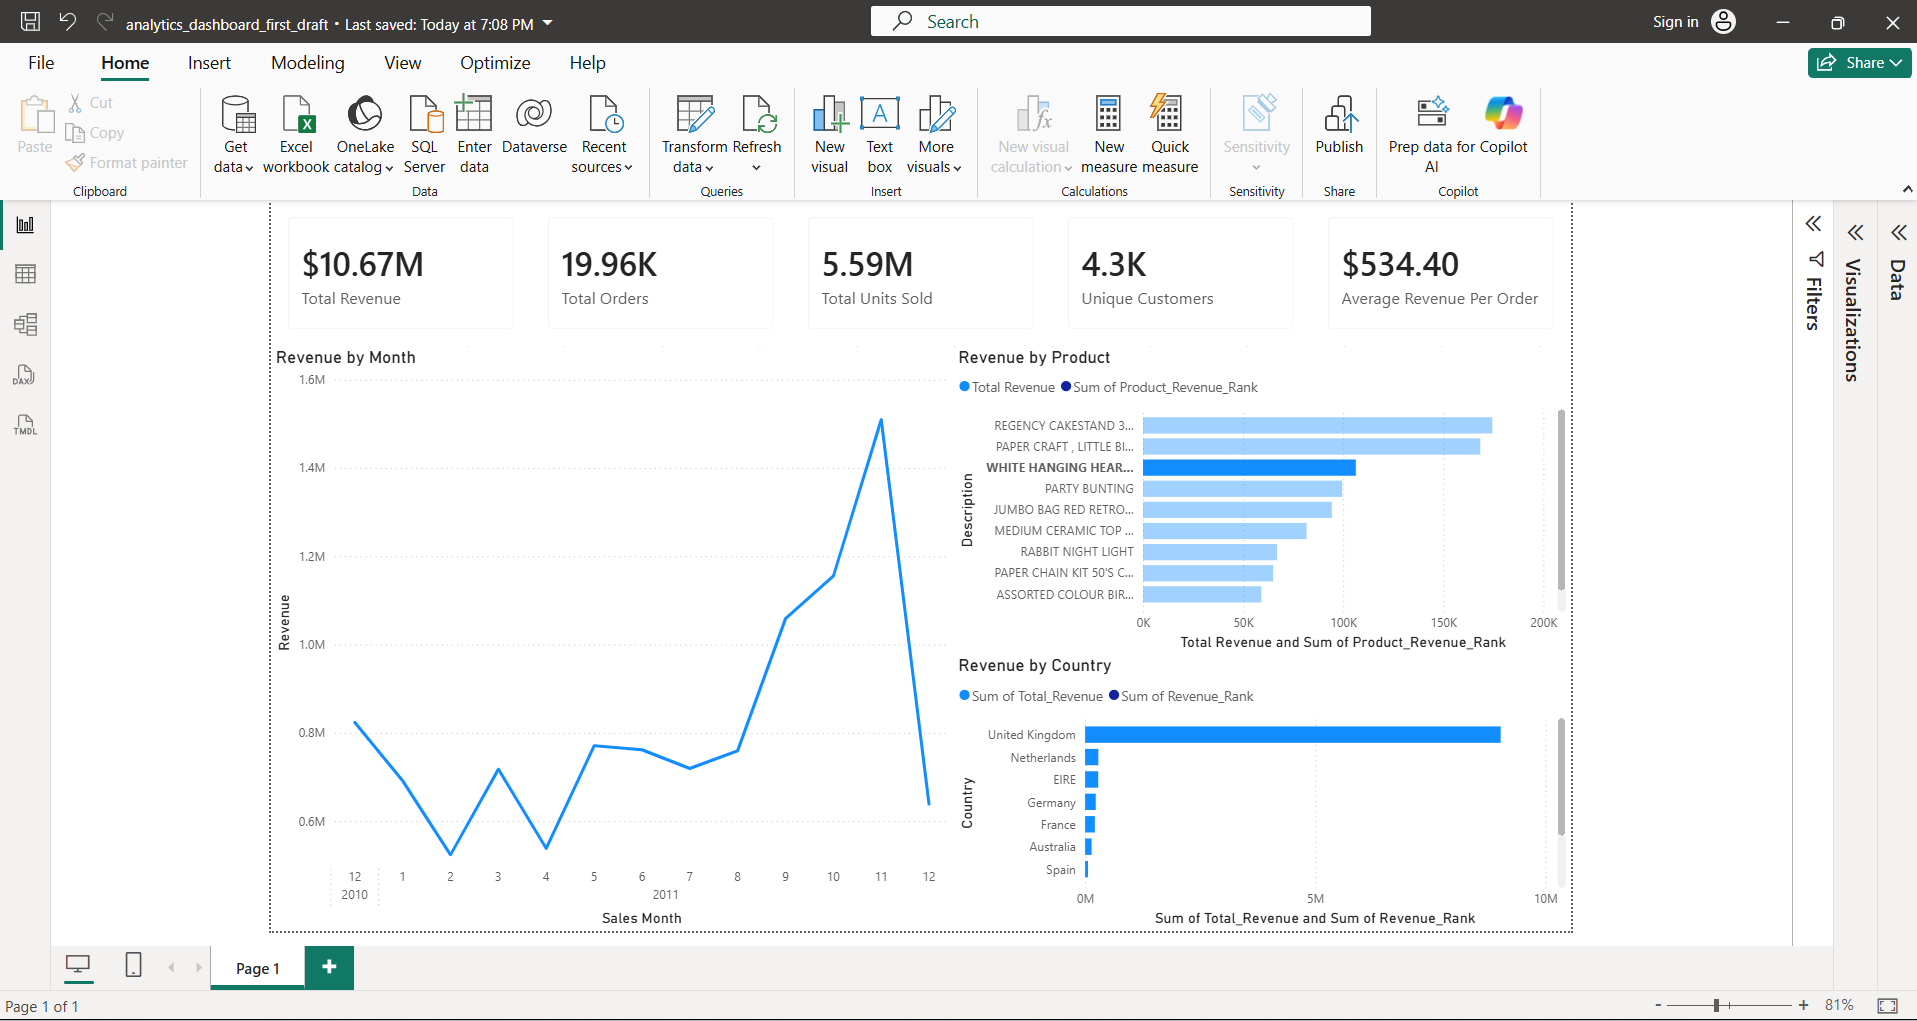

Layout of this report page (visuals, bound fields, positions):
{"tool":"powerbi","page":{"name":"Page 1","canvas":[1280,720],"ordinal":0},"visuals":[{"type":"cardVisual","fields":{"Data":["Sum(dashboard_kpi_summary.Total_Revenue)"]},"box":[0,0,256,144],"z":0},{"type":"cardVisual","fields":{"Data":["Sum(dashboard_kpi_summary.Total_Orders)"]},"box":[256,0,256,144],"z":1000},{"type":"cardVisual","fields":{"Data":["Sum(dashboard_kpi_summary.Total_Units_Sold)"]},"box":[512,0,256,144],"z":2000},{"type":"cardVisual","fields":{"Data":["Sum(dashboard_kpi_summary.Unique_Customers)"]},"box":[768,0,256,144],"z":3000},{"type":"cardVisual","fields":{"Data":["Sum(dashboard_kpi_summary.Average_Revenue_Per_Order)"]},"box":[1024,0,256,144],"z":4000},{"type":"lineChart","title":"Revenue by Month","fields":{"Category":["dashboard_monthly_sales.Sales_Year","dashboard_monthly_sales.Sales_Month"],"Y":["Sum(dashboard_monthly_sales.Total_Monthly_Revenue)"]},"box":[0,144,672,576],"z":5000},{"type":"barChart","title":"Revenue by Product","fields":{"Category":["dashboard_product_performance.Description"],"Y":["Sum(dashboard_product_performance.Total_Revenue)","Sum(dashboard_product_performance.Product_Revenue_Rank)"]},"box":[672,144,608,304],"z":6000},{"type":"barChart","title":"Revenue by Country","fields":{"Category":["dashboard_geographic_performance.Country"],"Y":["Sum(dashboard_geographic_performance.Total_Revenue)","Sum(dashboard_geographic_performance.Revenue_Rank)"]},"box":[672,448,608,272],"z":6001}]}

Visuals, with their boxes on the page's 1280x720 design canvas (x1, y1, x2, y2). These are canvas units, not pixel positions in the 1917x1021 screenshot, which may show the page scaled, cropped or inside an application window:
cardVisual - Sum(dashboard_kpi_summary.Total_Revenue): [0,0,256,144]
cardVisual - Sum(dashboard_kpi_summary.Total_Orders): [256,0,512,144]
cardVisual - Sum(dashboard_kpi_summary.Total_Units_Sold): [512,0,768,144]
cardVisual - Sum(dashboard_kpi_summary.Unique_Customers): [768,0,1024,144]
cardVisual - Sum(dashboard_kpi_summary.Average_Revenue_Per_Order): [1024,0,1280,144]
"Revenue by Month" lineChart: [0,144,672,720]
"Revenue by Product" barChart: [672,144,1280,448]
"Revenue by Country" barChart: [672,448,1280,720]
